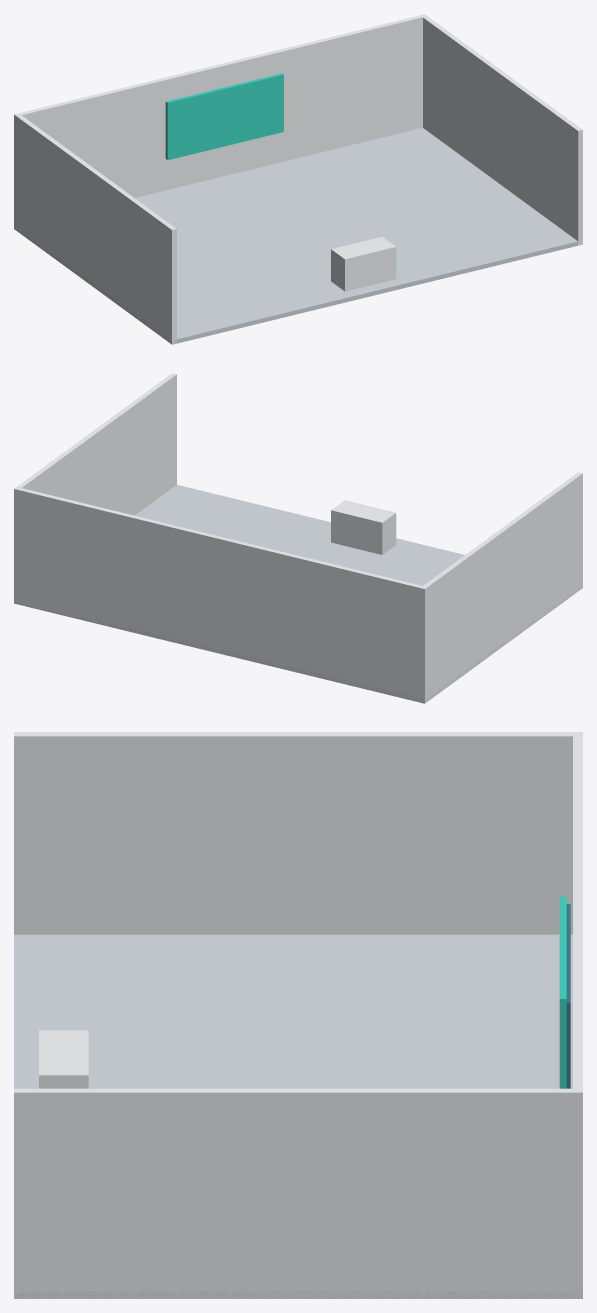
3 renders of one model, top to bottom at view 1: azimuth 30°, elevation 25°; view 2: azimuth 150°, elevation 25°; view 3: azimuth 270°, elevation 25°, orthographic. The views are drawn at different scales.
Visible parts, largest first — view 1: Exhibition Booth Concept; view 2: Exhibition Booth Concept; view 3: Exhibition Booth Concept.
Boxes of the visible parts, x1=… form: Exhibition Booth Concept: x1=14, y1=14, x2=582, y2=344; Exhibition Booth Concept: x1=14, y1=373, x2=582, y2=703; Exhibition Booth Concept: x1=14, y1=732, x2=582, y2=1298.
Size of the model in its own units: 12 by 3.2 by 8.
